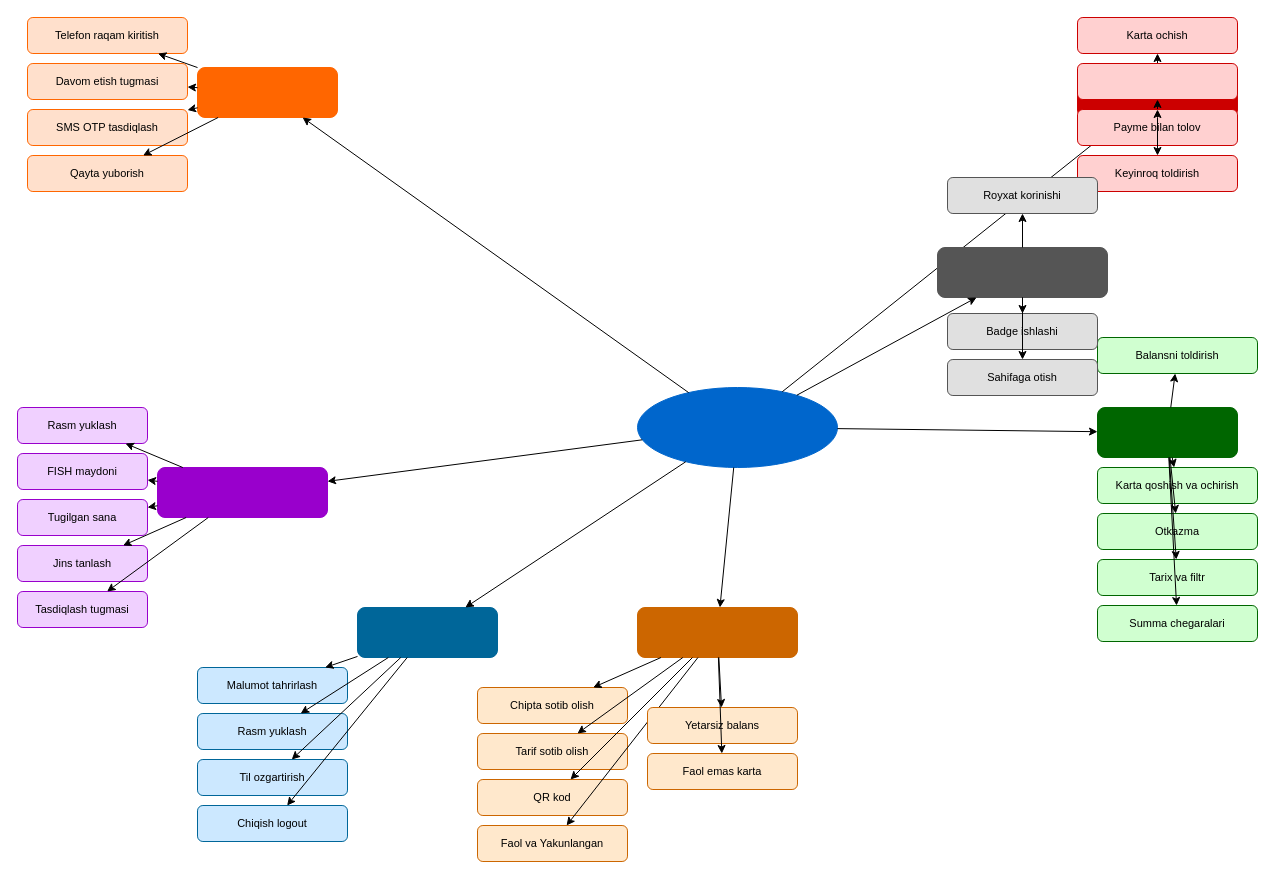
This 1275x879 diagram has some shape labels left out. Here are the shapes that lost their labels. From the top down, the centre of each, then its label:
At point (267, 92): "LOGIN".
At point (1157, 81): "Click bilan tolov".
At point (1022, 272): "BILDIRISHNOMALAR".
At point (737, 427): "ICE CITY ILOVA".
At point (1167, 432): "BALANS".
At point (242, 492): "ROYXATDAN OTISH".
At point (427, 632): "PROFIL".
At point (717, 632): "CHIPTALAR".
